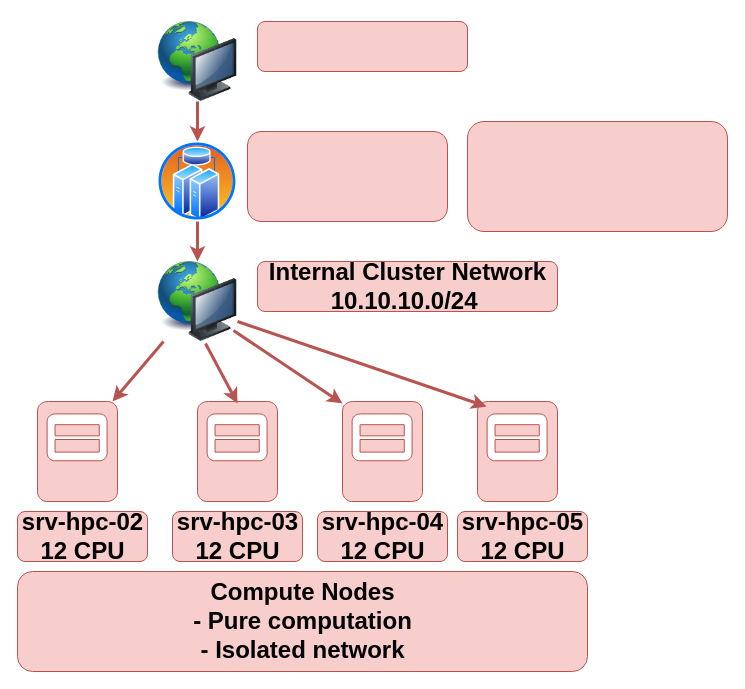
The diagram is 745 pixels wide and 689 high, and some of its shapes have lost their labels. Each missing label, with the centre of its shape:
External Network 170.168.1.0/24: (x=362, y=46)
Head Node Job scheduling Storage management: (x=597, y=176)
srv-hpc-01 (NFS Server) (SSH Gateway): (x=347, y=176)
